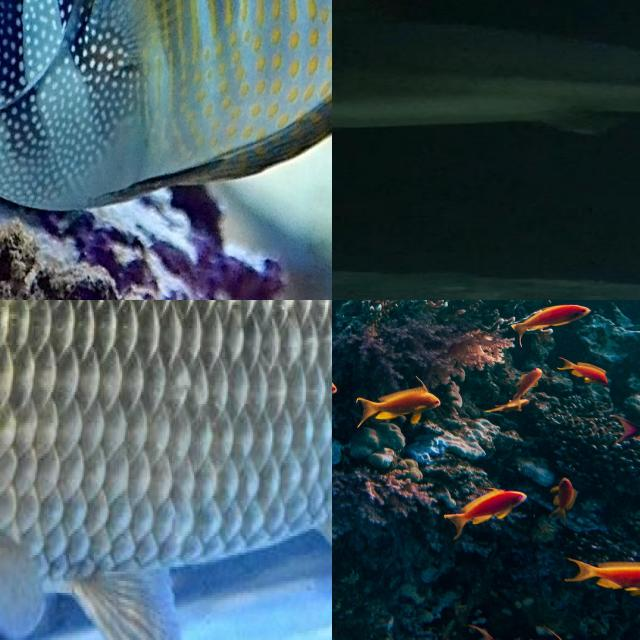fish: (0, 300, 332, 640), (0, 0, 332, 300), (332, 0, 640, 144)
